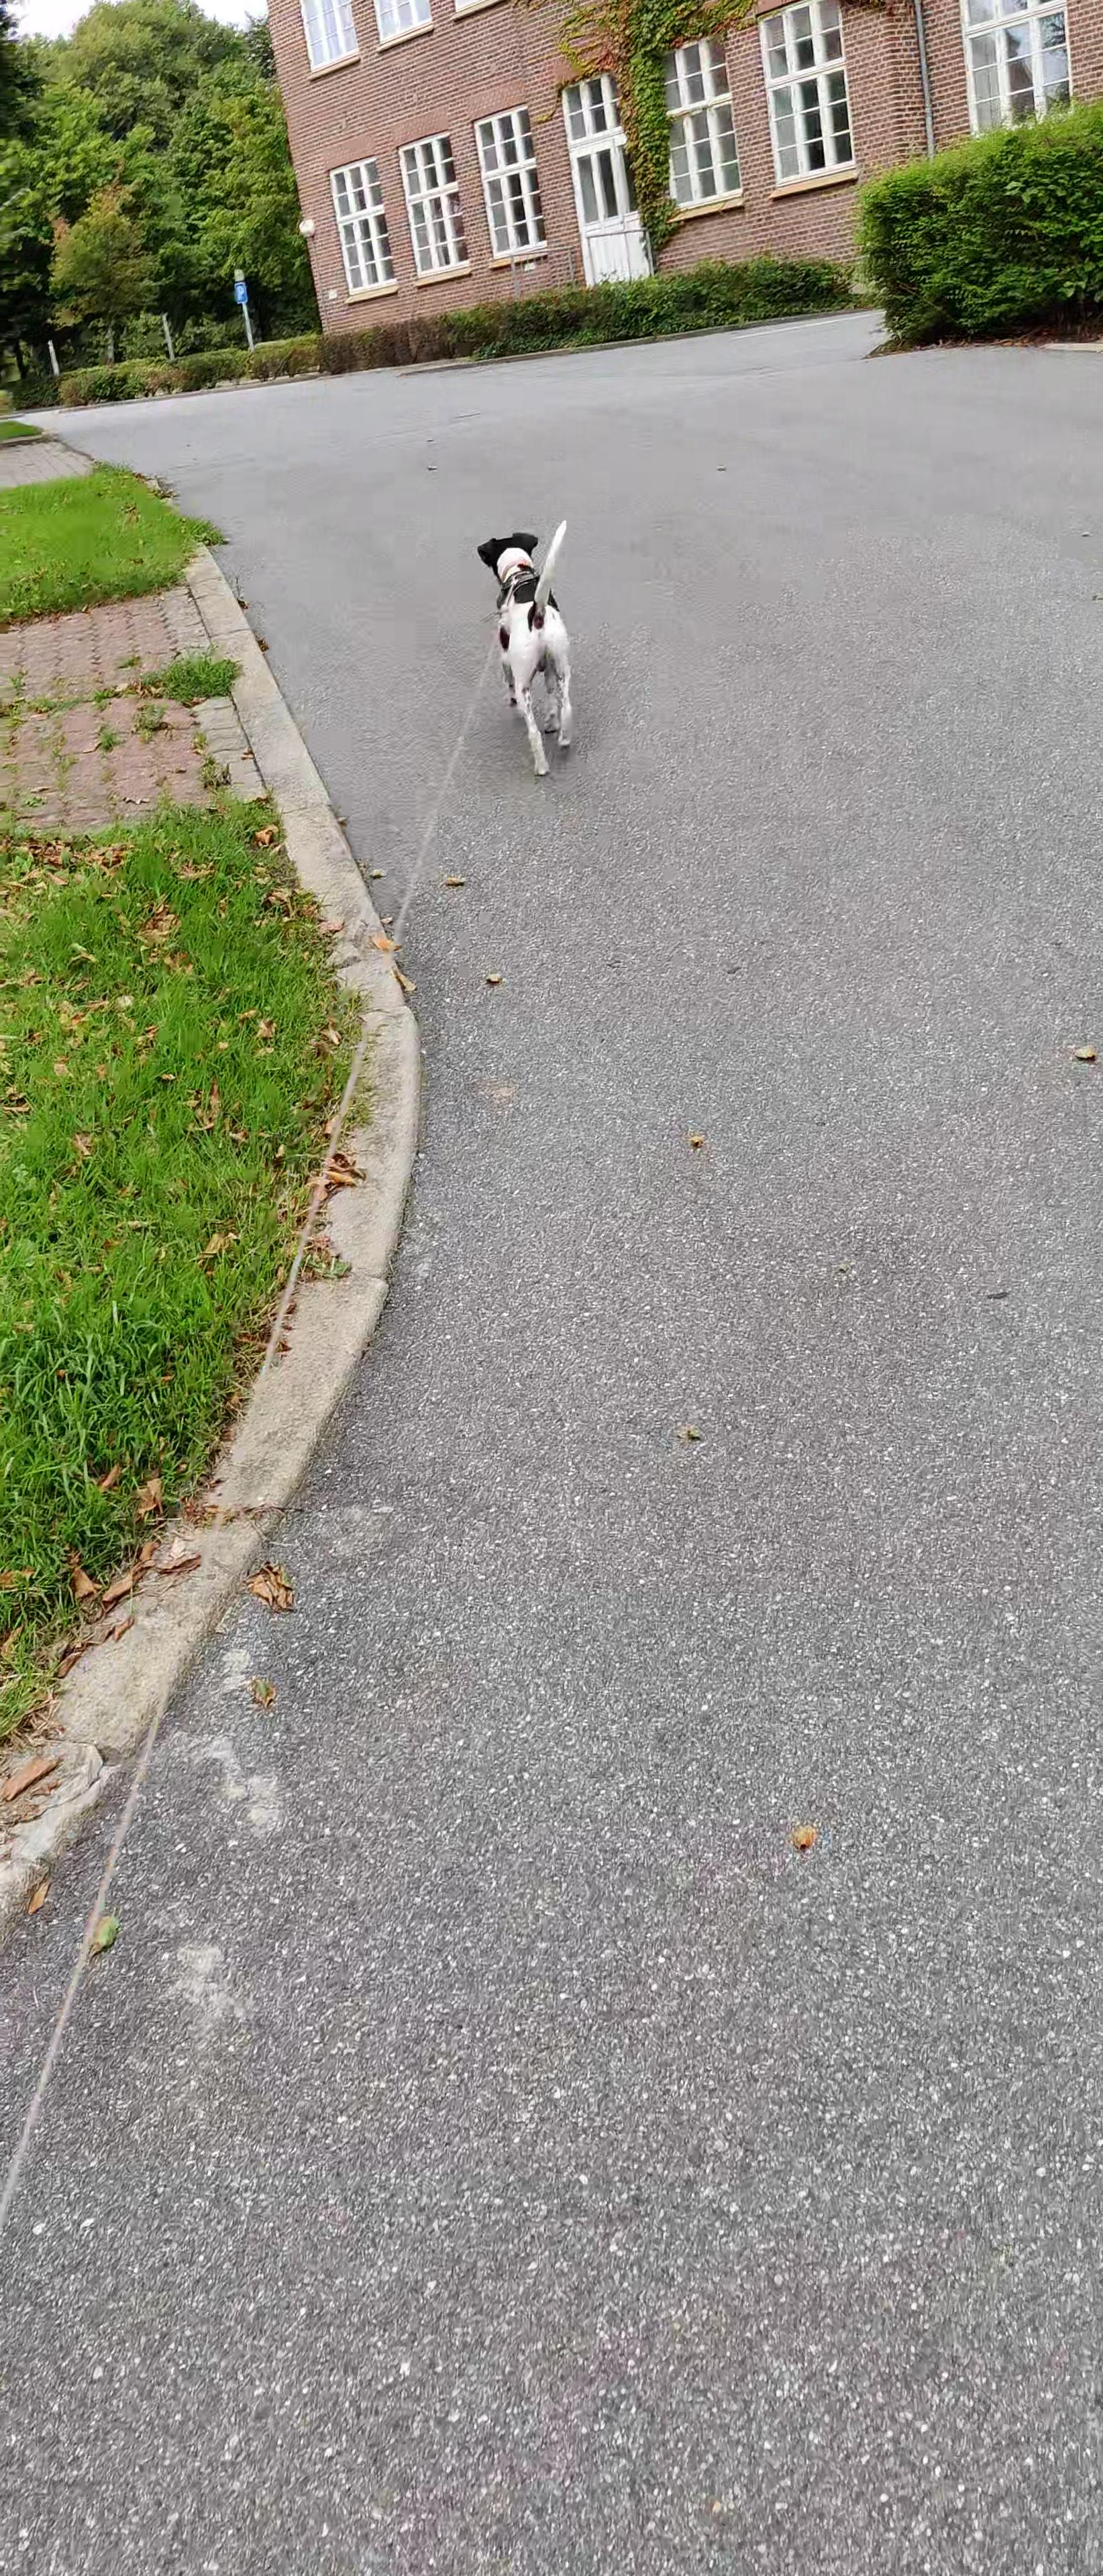Dog: (475, 517, 593, 780)
